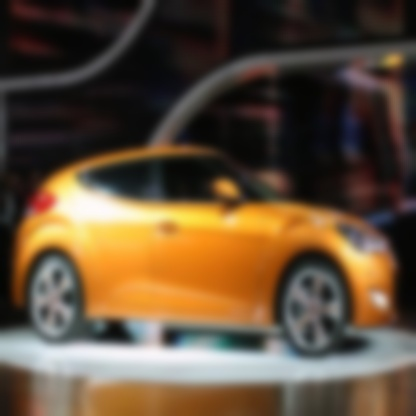Vehicle: (10, 140, 401, 357)
